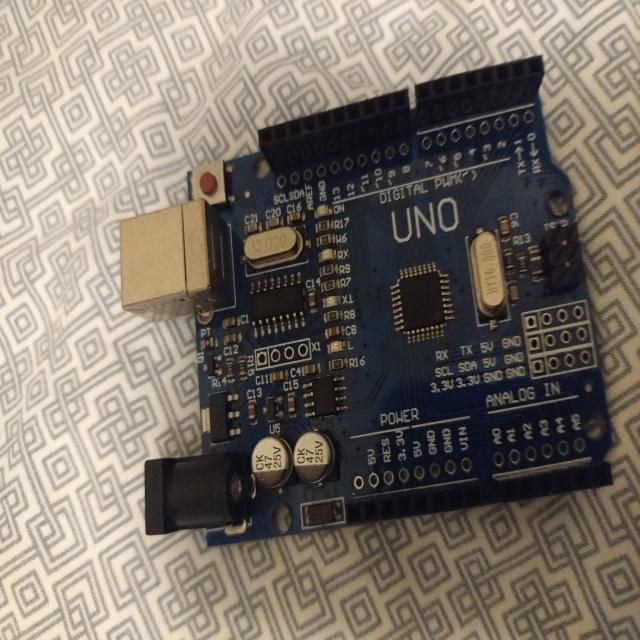arduino: (108, 46, 626, 557)
